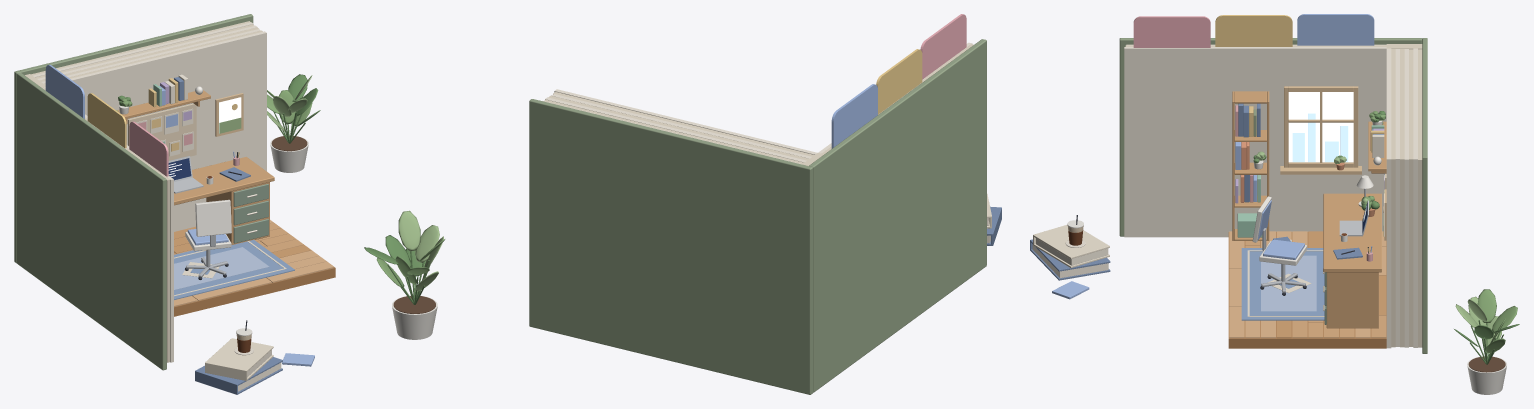
File: book.glb
3 renders of one model, left to right at view 1: azimuth 30°, elevation 25°; view 2: azimuth 150°, elevation 25°; view 3: azimuth 270°, elevation 25°, orthographic. The views are drawn at different scales.
Visible parts, largest first — view 1: Book_Cover, Book_Pages, Room_Floor, Room_Desk, Prop_BookStack, Room_Pegboard, Prop_Plant, Room_Chair, Room_WallShelf, Tab_About, Tab_Projects, Room_DeskItems (+1 smaller); view 2: Book_Cover, Prop_Plant, Book_Pages, Tab_Projects, Tab_About, Tab_Skills; view 3: Book_Pages, Room_Floor, Room_Desk, Room_Window, Room_Bookshelf, Prop_BookStack, Book_Cover, Prop_Plant, Tab_Skills, Tab_About, Tab_Projects, Room_Chair (+2 smaller).
Boxes of the visible parts, left/top/right/bottom form: Book_Cover: left=14, top=14, right=253, bottom=370; Book_Pages: left=25, top=21, right=266, bottom=362; Room_Floor: left=174, top=220, right=335, bottom=316; Room_Desk: left=174, top=157, right=274, bottom=244; Prop_BookStack: left=195, top=320, right=314, bottom=394; Room_Pegboard: left=128, top=93, right=243, bottom=160; Prop_Plant: left=267, top=74, right=320, bottom=172; Room_Chair: left=185, top=199, right=231, bottom=279; Room_WallShelf: left=116, top=74, right=210, bottom=123; Tab_About: left=129, top=121, right=168, bottom=176; Tab_Projects: left=87, top=93, right=126, bottom=148; Room_DeskItems: left=168, top=151, right=250, bottom=193; Book_Cover: left=529, top=39, right=986, bottom=394; Prop_Plant: left=364, top=210, right=445, bottom=339; Book_Pages: left=542, top=42, right=973, bottom=165; Tab_Projects: left=876, top=49, right=922, bottom=114; Tab_About: left=920, top=14, right=966, bottom=79; Tab_Skills: left=831, top=84, right=877, bottom=148; Book_Pages: left=1124, top=44, right=1422, bottom=348; Room_Floor: left=1228, top=231, right=1386, bottom=348; Room_Desk: left=1323, top=193, right=1381, bottom=328; Room_Window: left=1280, top=86, right=1361, bottom=174; Room_Bookshelf: left=1232, top=91, right=1291, bottom=241; Prop_BookStack: left=1030, top=215, right=1110, bottom=299; Book_Cover: left=1119, top=38, right=1427, bottom=353; Prop_Plant: left=1454, top=289, right=1519, bottom=394; Tab_Skills: left=1297, top=14, right=1374, bottom=45; Tab_About: left=1133, top=16, right=1210, bottom=47; Tab_Projects: left=1215, top=15, right=1292, bottom=46; Room_Chair: left=1252, top=196, right=1307, bottom=295.
Bounding box in the file's own units: 5.16 × 3.2 × 6.34.
